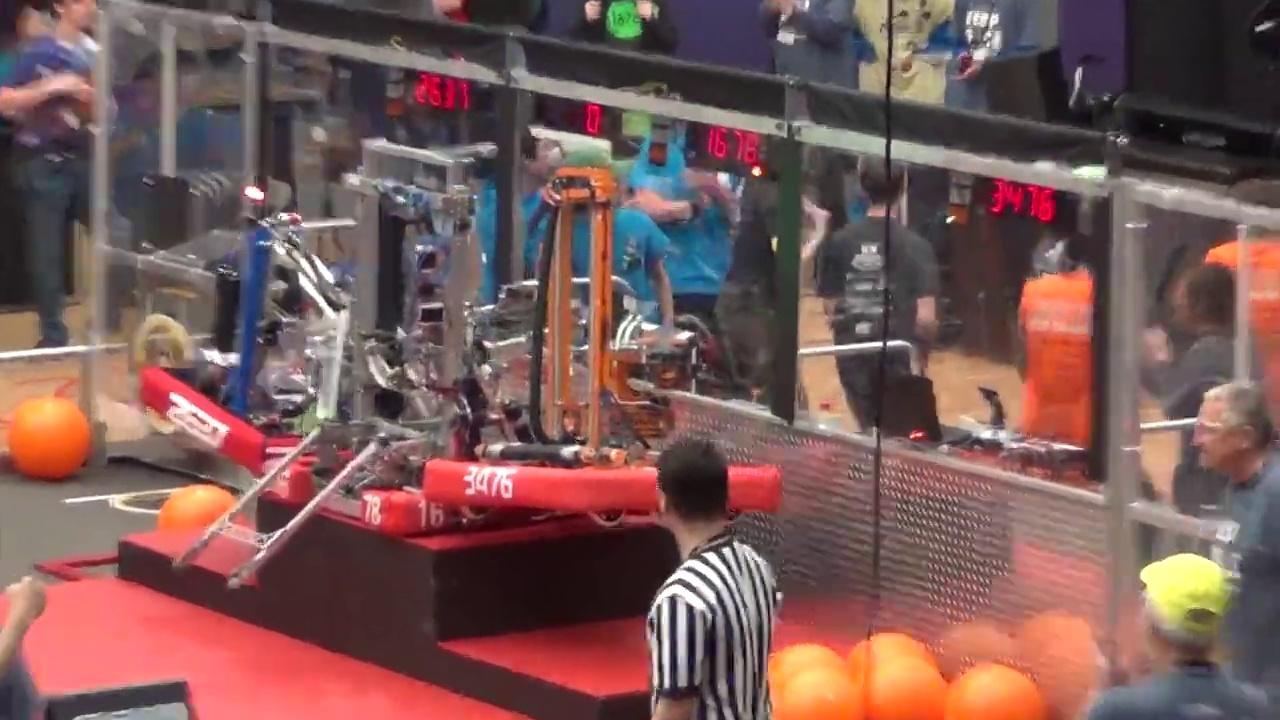robot: (421, 162, 780, 527), (261, 140, 469, 539), (136, 216, 378, 466)
